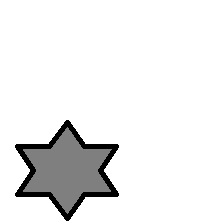star: (14, 120, 119, 221)
